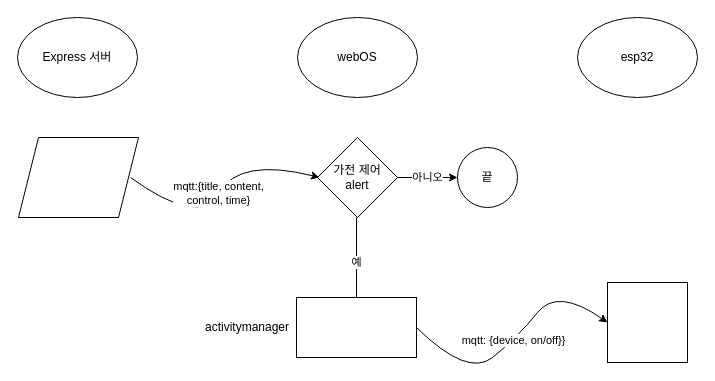
The diagram is 715 pixels wide and 381 high, and some of its shapes have lost their labels. The box of each missing label's shape, as (x1, y1, x2, y2) in pixels:
시작 시간에 mqtt publish 예약: (296, 296, 416, 358)
제목 내용 가전 제어 종류 시작 시간 입력: (18, 136, 138, 218)
